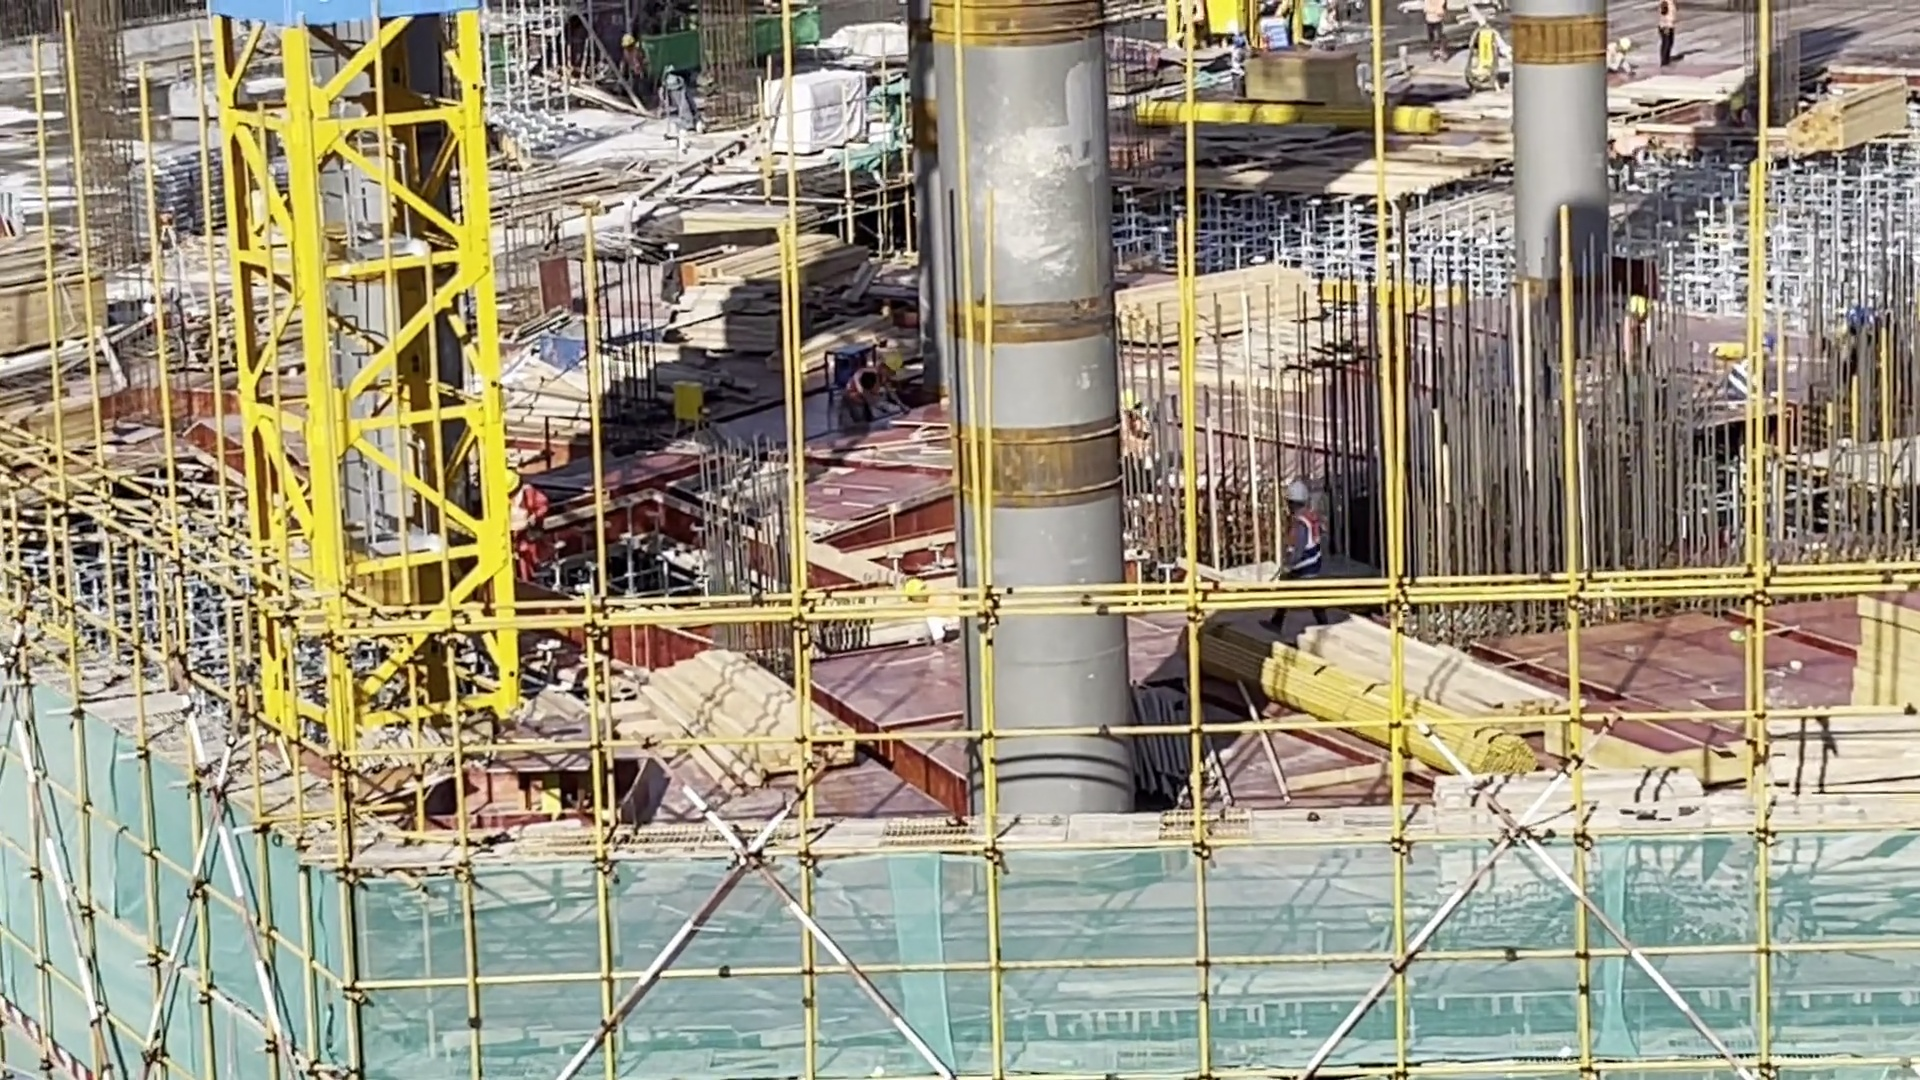helmet: (1286, 477, 1311, 512), (1846, 308, 1873, 337), (1117, 388, 1147, 410), (911, 589, 928, 611), (1766, 333, 1783, 354), (620, 28, 635, 49), (883, 356, 896, 381), (1626, 294, 1648, 306), (1651, 134, 1664, 150), (1239, 37, 1251, 46), (1630, 44, 1636, 56)
person: (1826, 300, 1920, 424), (1277, 470, 1331, 610), (499, 460, 562, 566), (1704, 333, 1772, 428), (812, 355, 891, 435), (1123, 384, 1174, 501), (906, 586, 964, 653), (1482, 23, 1532, 91), (1609, 125, 1662, 182), (619, 28, 662, 91), (1649, 1, 1686, 70), (1614, 285, 1636, 393), (1224, 32, 1248, 101), (1612, 23, 1639, 75), (1427, 6, 1454, 58)
vest: (916, 591, 969, 642), (1283, 506, 1313, 581), (508, 492, 539, 556), (839, 362, 881, 409), (1623, 320, 1654, 382), (1851, 316, 1879, 379), (1728, 361, 1754, 407), (1131, 419, 1151, 468), (1486, 26, 1509, 66), (1620, 132, 1645, 162), (628, 48, 648, 83), (1666, 1, 1679, 34), (1607, 48, 1625, 71), (1429, 1, 1444, 28), (1233, 53, 1249, 74)
